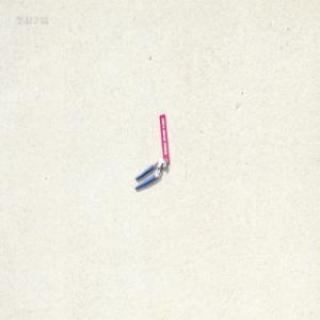LuggageTagtrack_idkeyframe: (158, 114, 168, 166)
Pliertrack_idkeyframe: (134, 157, 166, 191)
